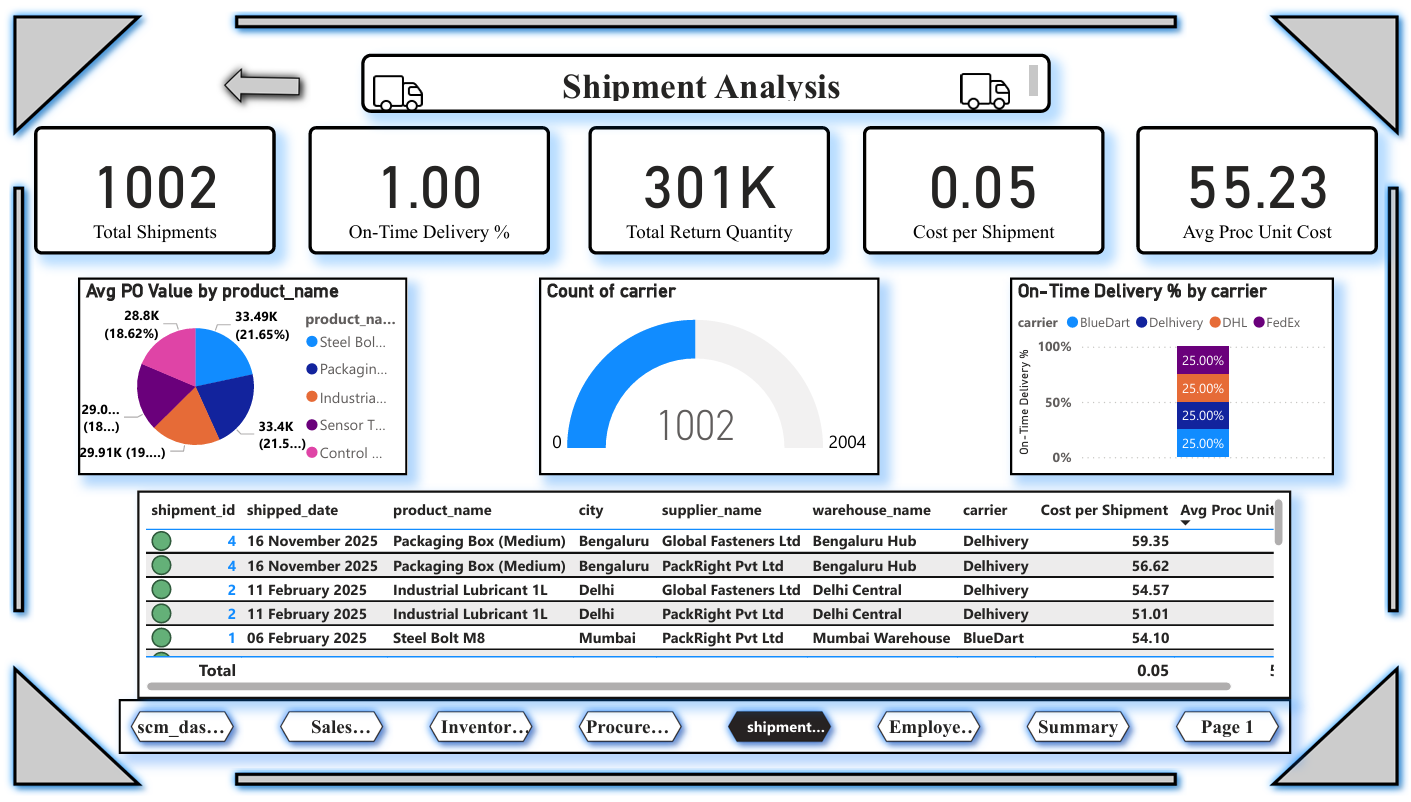

The dashboard page shown, as its layout file describes it:
{"tool":"powerbi","page":{"name":"shipment Analysis","canvas":[1280,720],"ordinal":4},"visuals":[{"type":"shape","box":[0,0,136,128],"z":0},{"type":"shape","box":[202,0,876,30],"z":1000},{"type":"shape","box":[1144,0,136,128],"z":2000},{"type":"shape","box":[1252,156,28,406],"z":3000},{"type":"shape","box":[1144,592,136,128],"z":4000},{"type":"shape","box":[202,690,876,30],"z":5000},{"type":"shape","box":[0,592,136,128],"z":6000},{"type":"shape","box":[0,156,28,406],"z":7000},{"type":"card","fields":{"Values":["dim_customer.Total Shipments"]},"box":[28.3,110,220,116.7],"z":8000},{"type":"card","fields":{"Values":["dim_customer.Avg Proc Unit Cost"]},"box":[1031.7,110,220,116.7],"z":9000},{"type":"card","fields":{"Values":["dim_customer.On-Time Delivery %"]},"box":[278.3,110,220,116.7],"z":10000},{"type":"card","fields":{"Values":["dim_customer.Tolat retune quantity"]},"box":[533.3,110,220,116.7],"z":11000},{"type":"textbox","box":[326,44,628,54],"z":12000},{"type":"card","fields":{"Values":["dim_customer.Cost per Shipment"]},"box":[783.3,110,220,116.7],"z":13000},{"type":"pieChart","fields":{"Y":["dim_customer.Avg PO Value"],"Category":["dim_product.product_name"]},"box":[68.3,248.3,300,180],"z":14000},{"type":"gauge","fields":{"Y":["CountNonNull(fact_shipment.carrier)"]},"box":[488.3,248.3,310,180],"z":15000},{"type":"hundredPercentStackedColumnChart","fields":{"Y":["dim_customer.On-Time Delivery %"],"Series":["fact_shipment.carrier"]},"box":[916.7,248.3,295,180],"z":16000},{"type":"pageNavigator","box":[105,631.7,1068.3,50],"z":17000},{"type":"tableEx","fields":{"Values":["fact_shipment.shipment_id","fact_shipment.shipped_date","dim_product.product_name","dim_warehouse.city","dim_supplier.supplier_name","dim_warehouse.warehouse_name","fact_shipment.carrier","dim_customer.Cost per Shipment","dim_customer.Avg Proc Unit Cost"]},"box":[121.7,441.7,1051.7,190],"z":18000},{"type":"shape","box":[190.7,48.1,89.1,49.9],"z":19000},{"type":"image","box":[330.3,47,58.3,55.1],"z":20000},{"type":"image","box":[864.7,45.3,58.3,55.1],"z":21000}]}

Visuals, with their boxes in screenshot pixels (x1, y1, x2, y2), scaled from the page's 1280x720 canvas onto the 1411x802 screenshot:
shape: (left=0, top=0, right=150, bottom=143)
shape: (left=223, top=0, right=1188, bottom=33)
shape: (left=1261, top=0, right=1410, bottom=143)
shape: (left=1380, top=174, right=1410, bottom=626)
shape: (left=1261, top=659, right=1410, bottom=801)
shape: (left=223, top=769, right=1188, bottom=801)
shape: (left=0, top=659, right=150, bottom=801)
shape: (left=0, top=174, right=31, bottom=626)
card - dim_customer.Total Shipments: (left=31, top=123, right=274, bottom=253)
card - dim_customer.Avg Proc Unit Cost: (left=1137, top=123, right=1380, bottom=253)
card - dim_customer.On-Time Delivery %: (left=307, top=123, right=549, bottom=253)
card - dim_customer.Tolat retune quantity: (left=588, top=123, right=830, bottom=253)
textbox: (left=359, top=49, right=1052, bottom=109)
card - dim_customer.Cost per Shipment: (left=863, top=123, right=1106, bottom=253)
pieChart - dim_customer.Avg PO Value x dim_product.product_name: (left=75, top=277, right=406, bottom=477)
gauge - CountNonNull(fact_shipment.carrier): (left=538, top=277, right=880, bottom=477)
hundredPercentStackedColumnChart - dim_customer.On-Time Delivery % x fact_shipment.carrier: (left=1011, top=277, right=1336, bottom=477)
pageNavigator: (left=116, top=704, right=1293, bottom=759)
tableEx - fact_shipment.shipment_id x fact_shipment.shipped_date: (left=134, top=492, right=1293, bottom=704)
shape: (left=210, top=54, right=308, bottom=109)
image: (left=364, top=52, right=428, bottom=114)
image: (left=953, top=50, right=1017, bottom=112)
